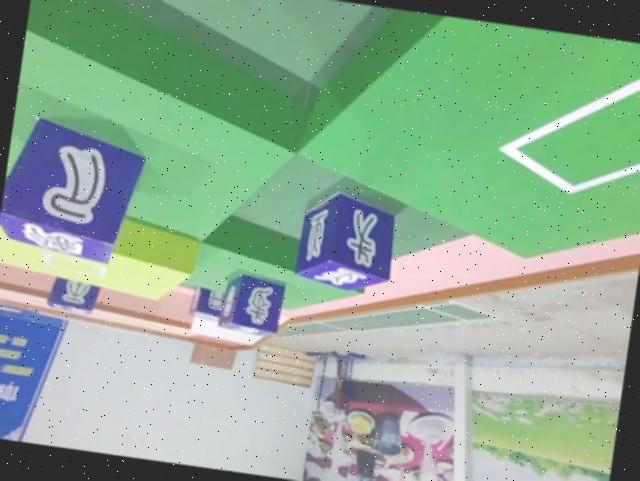R2 Fake Blue: (0, 113, 151, 266), (289, 185, 402, 297), (218, 272, 287, 338), (44, 273, 102, 316), (187, 285, 226, 323)
